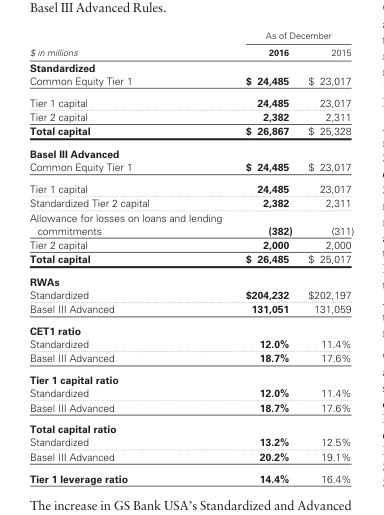table: (28, 29, 353, 484)
table column: (28, 29, 233, 484), (233, 29, 299, 484), (299, 29, 353, 484)
table column header: (28, 29, 353, 58)
table projected row header: (28, 142, 353, 160), (28, 270, 353, 288), (28, 319, 353, 337), (28, 368, 353, 386), (28, 417, 353, 435), (28, 58, 353, 73)
table row: (28, 209, 353, 236), (28, 90, 353, 109), (28, 123, 353, 142), (28, 251, 353, 270), (28, 142, 353, 160), (28, 177, 353, 195), (28, 270, 353, 288), (28, 301, 353, 319), (28, 319, 353, 337), (28, 350, 353, 368), (28, 368, 353, 386), (28, 399, 353, 417), (28, 417, 353, 435), (28, 448, 353, 466), (28, 466, 353, 484), (28, 73, 353, 90), (28, 160, 353, 177), (28, 42, 353, 58), (28, 58, 353, 73), (28, 236, 353, 251), (28, 109, 353, 123), (28, 195, 353, 209), (28, 29, 353, 42), (28, 288, 353, 301), (28, 337, 353, 350), (28, 386, 353, 399), (28, 435, 353, 448)
table spanning cell: (28, 29, 233, 58), (233, 29, 353, 42)
